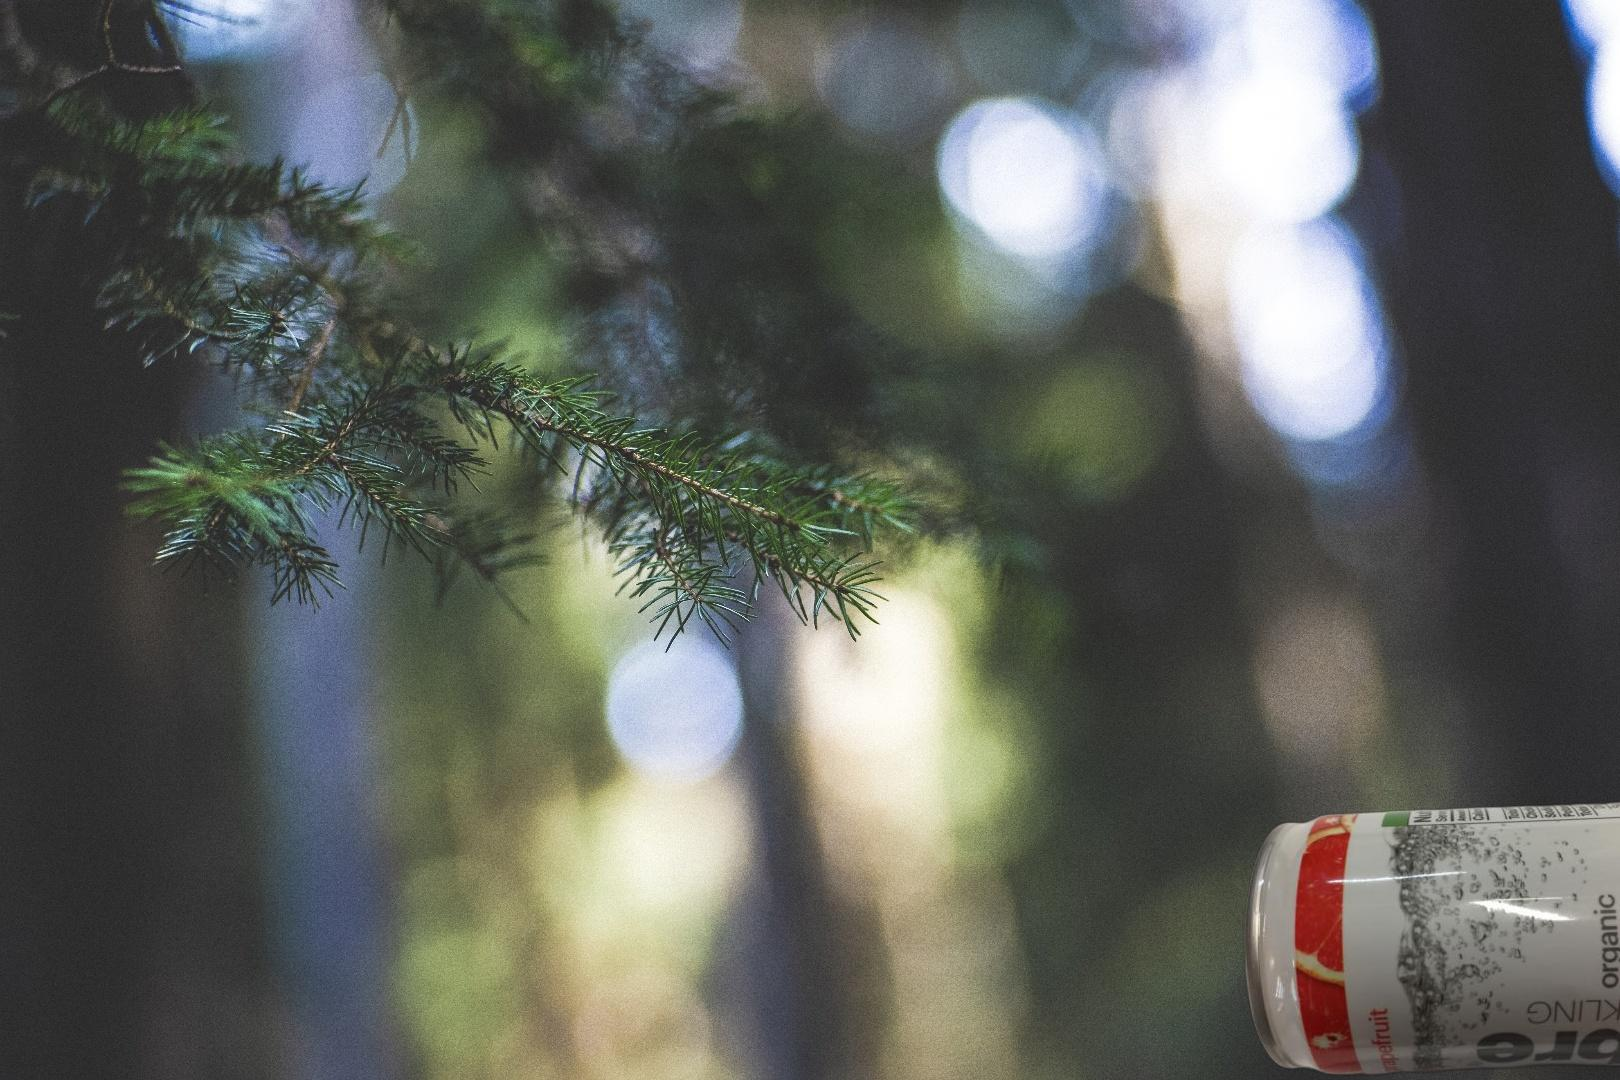metal-cans: (1240, 794, 1620, 1080)
